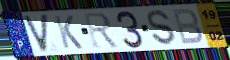3: (115, 9, 144, 50)
B: (170, 7, 204, 46)
K: (53, 15, 85, 51)
R: (82, 12, 122, 50)
S: (146, 9, 178, 47)
V: (21, 13, 50, 54)
